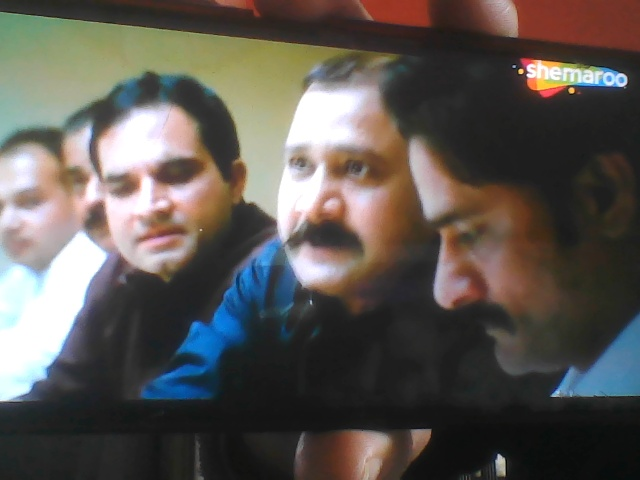fake: (408, 64, 626, 373), (260, 40, 446, 303), (87, 71, 241, 290)
